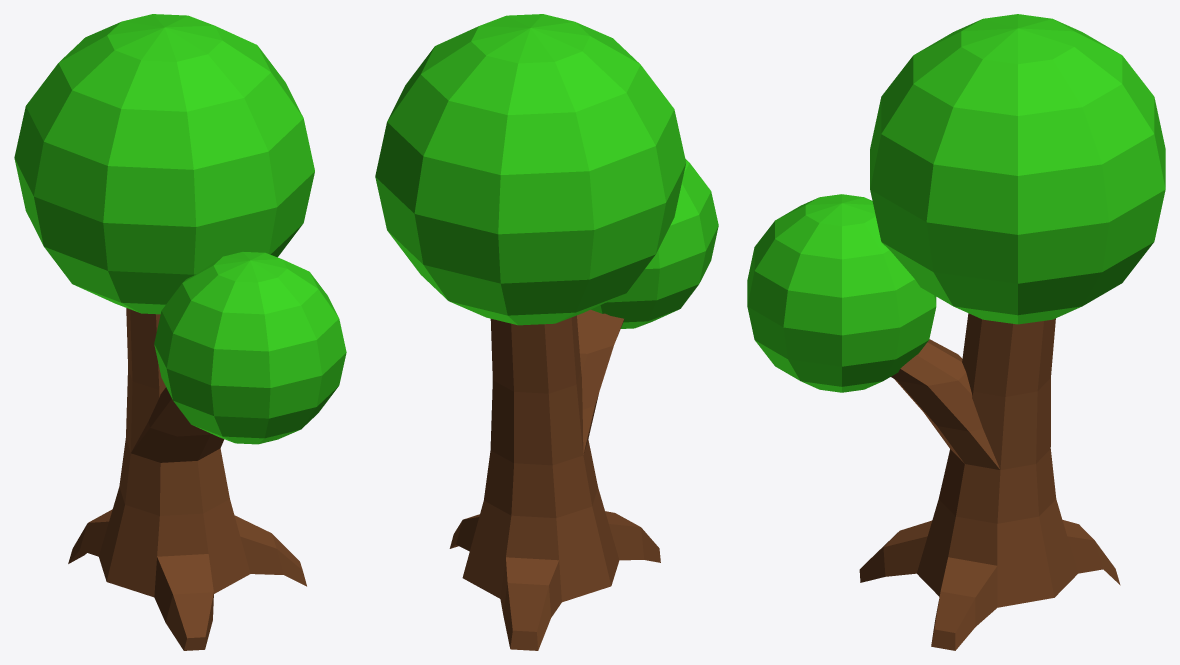
File: Tree_0.fbx
3 views of the same model, side by side, from view 1: azimuth 30°, elevation 25°; view 2: azimuth 150°, elevation 25°; view 3: azimuth 270°, elevation 25° (orthographic). The views are drawn at different scales.
Parts seen in each view (by area): view 1: Leaf_Big, Leaf_Small, Trunk, Branch; view 2: Leaf_Big, Trunk, Leaf_Small, Branch; view 3: Leaf_Big, Trunk, Leaf_Small, Branch.
Boxes of the visible parts, <box> form: Leaf_Big: <box>14,14,314,314</box>; Leaf_Small: <box>154,252,346,444</box>; Trunk: <box>68,308,306,650</box>; Branch: <box>131,387,224,462</box>; Leaf_Big: <box>375,14,686,325</box>; Trunk: <box>449,315,660,650</box>; Leaf_Small: <box>591,159,718,328</box>; Branch: <box>577,309,623,454</box>; Leaf_Big: <box>870,14,1165,324</box>; Trunk: <box>859,313,1120,650</box>; Leaf_Small: <box>747,194,936,392</box>; Branch: <box>891,339,1000,469</box>.
Bounding box in the file's own units: 816 × 1659 × 1098.
